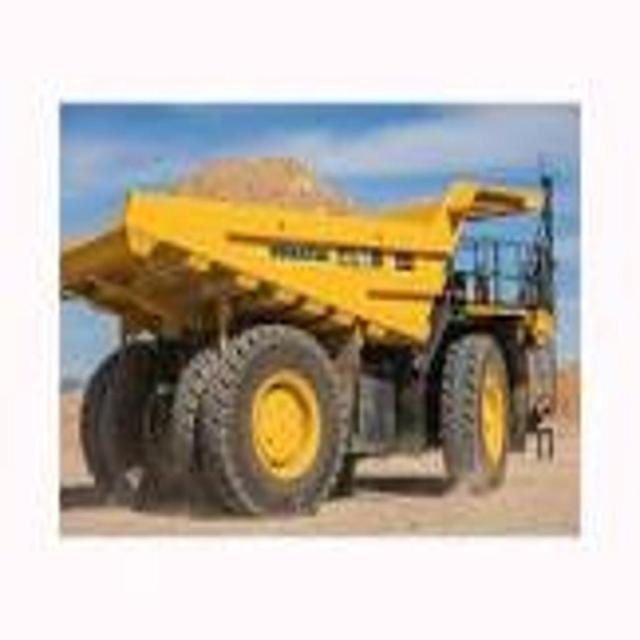dump_truck: (59, 178, 564, 523)
